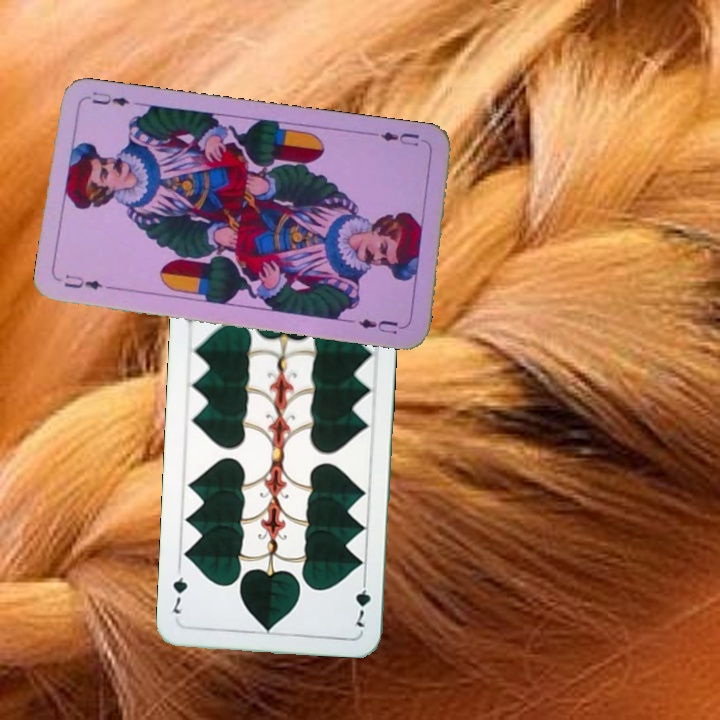EU: (60, 270, 105, 292), (377, 127, 421, 149)
G7: (349, 572, 373, 630)
